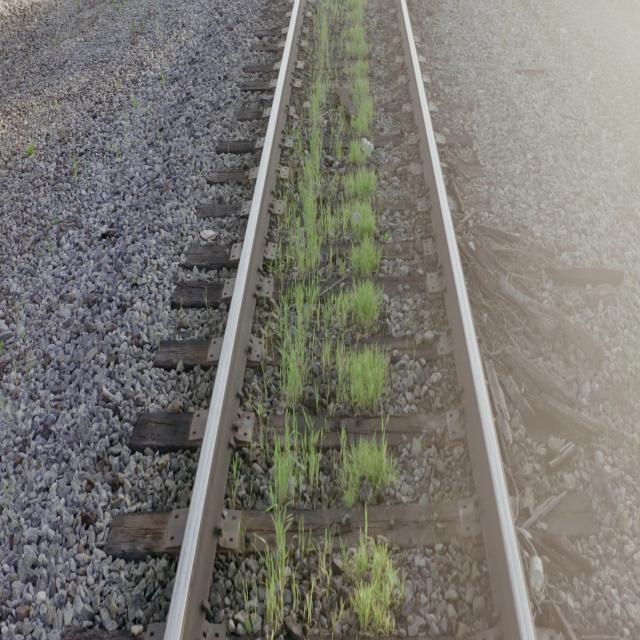Plant: (275, 0, 389, 413), (265, 427, 321, 638), (349, 533, 401, 633), (331, 433, 396, 507), (302, 551, 330, 631)
